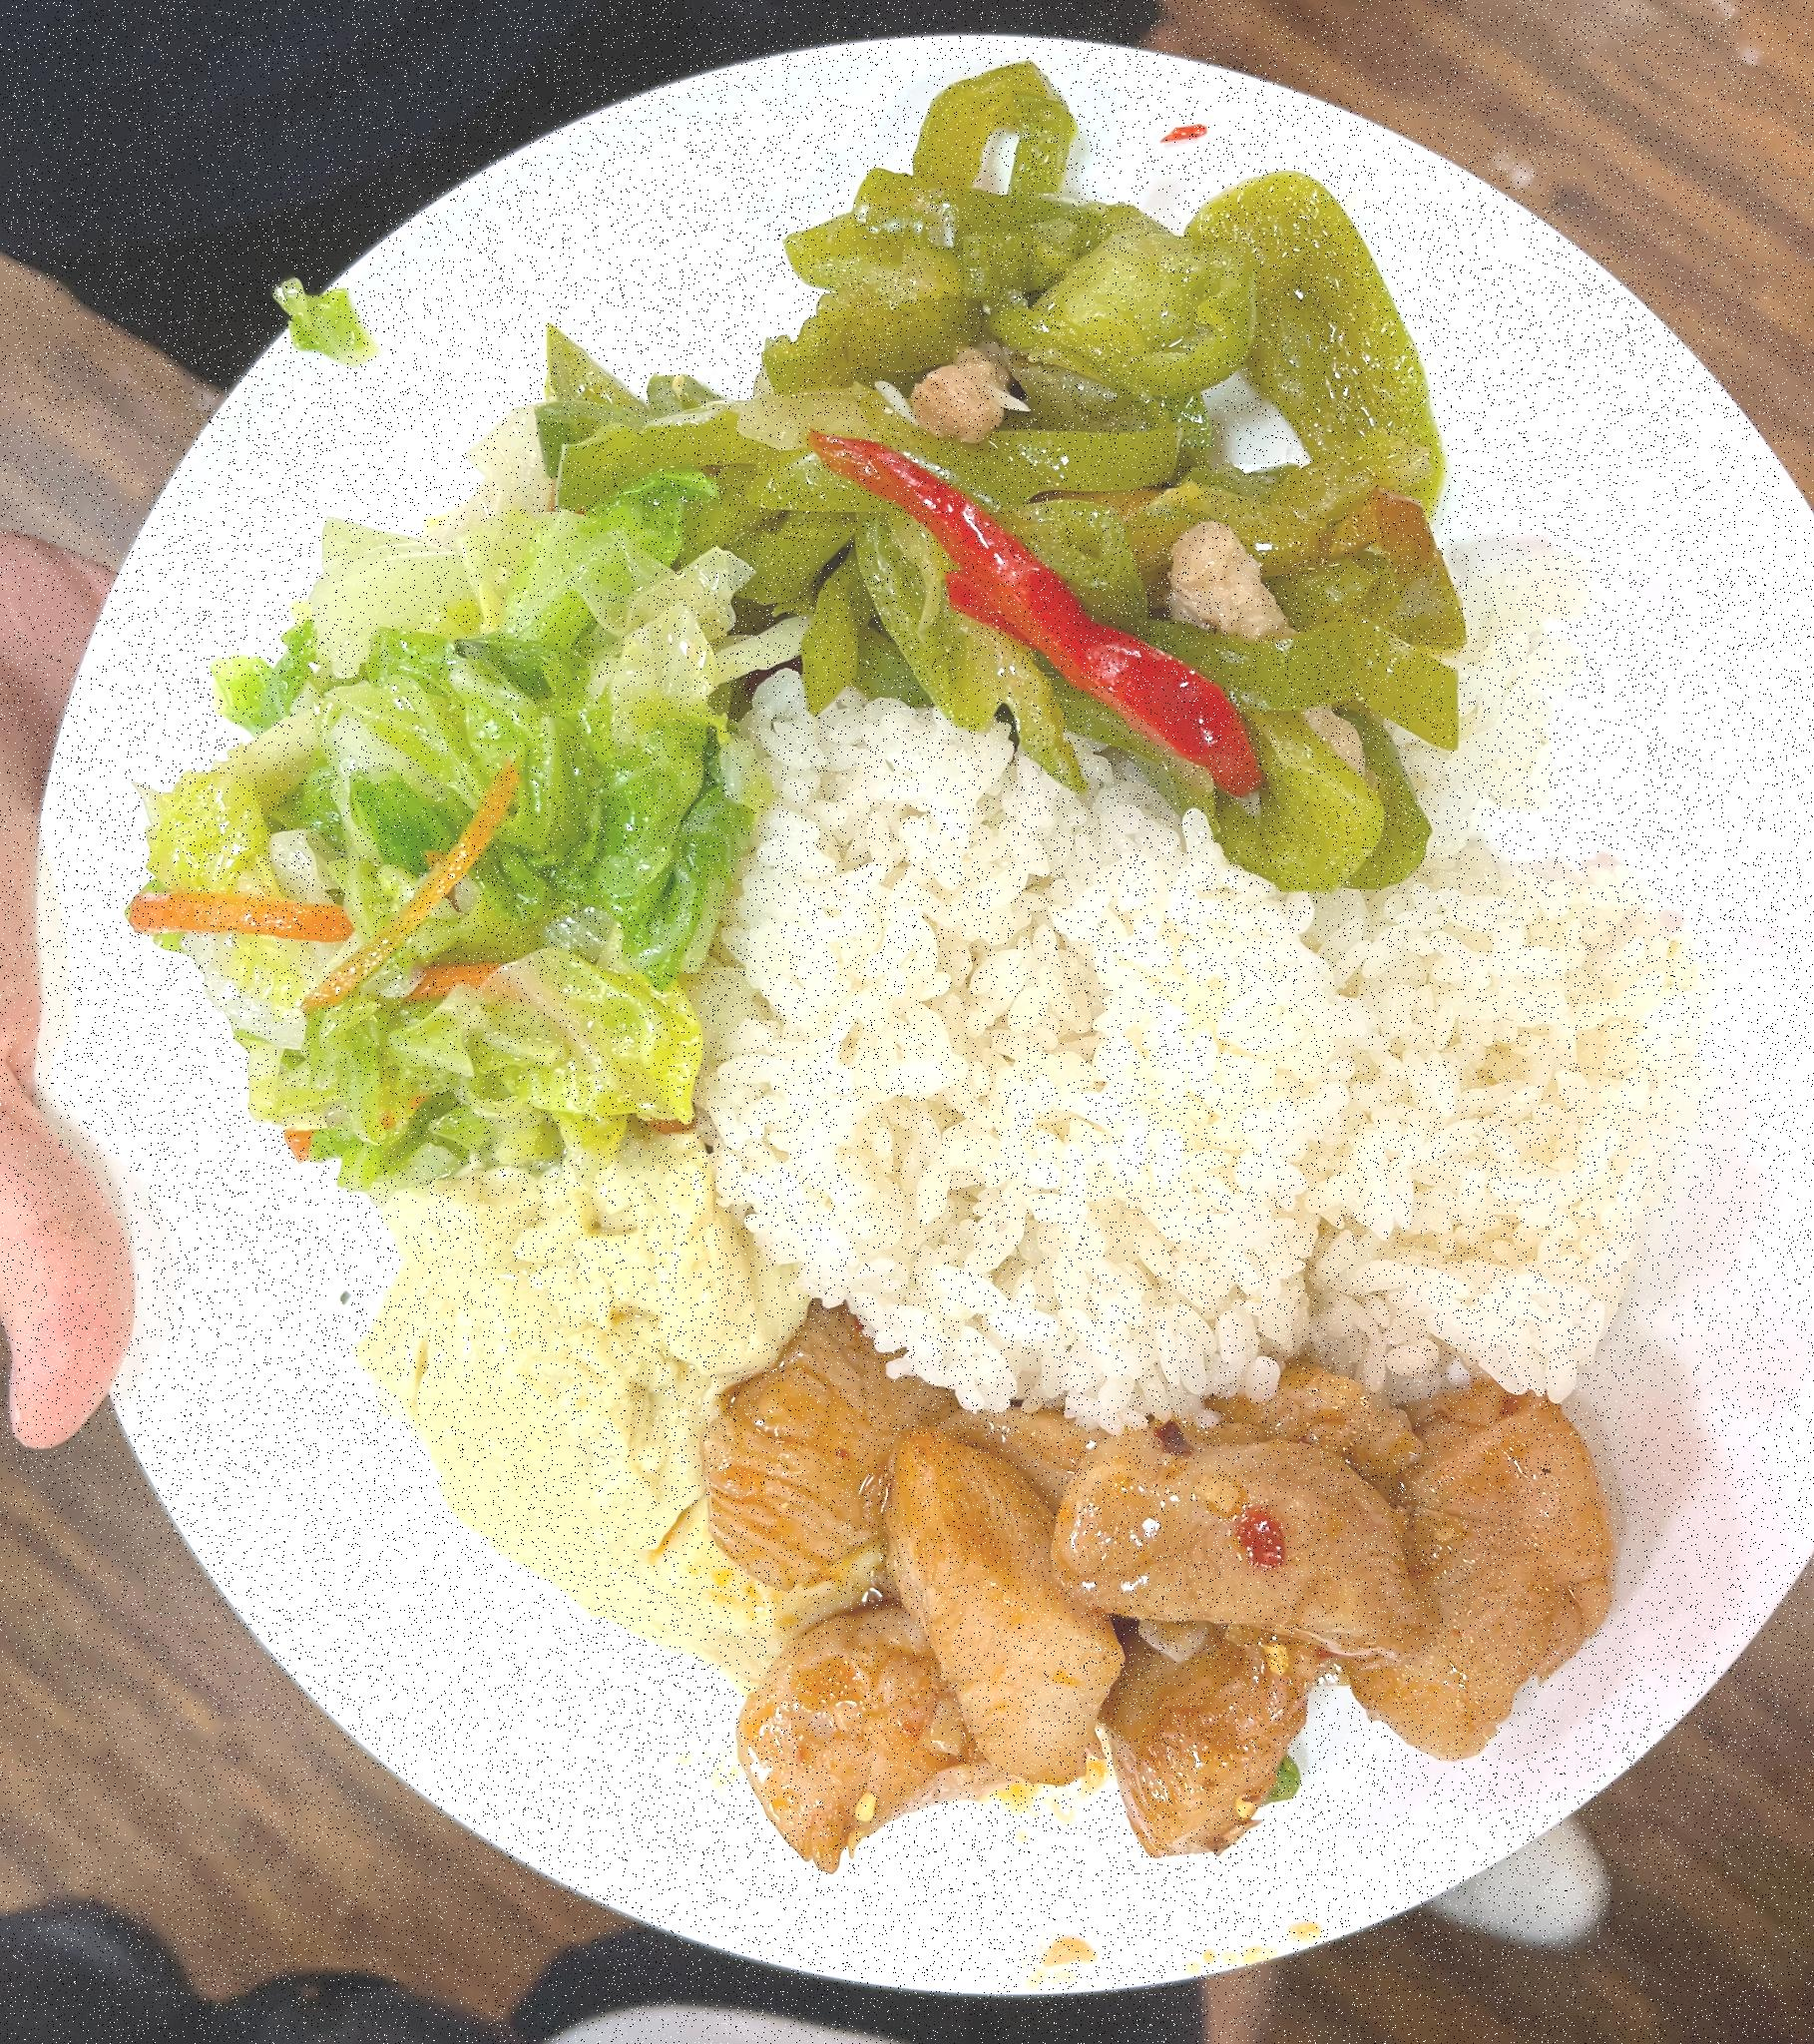big fried chicken leg: (12, 26, 1807, 1991)
big herbal chicken leg: (721, 727, 1704, 1399)
braised fish fillet: (573, 128, 1466, 839), (170, 482, 739, 1175), (336, 1147, 793, 1669)
braised pork: (697, 1322, 1618, 1865)
